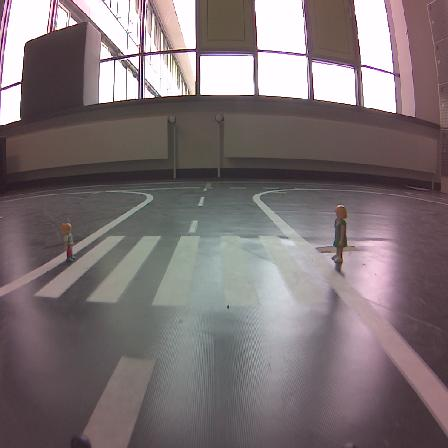CHILD: (61, 223, 75, 261)
PERSON: (332, 205, 347, 262)
